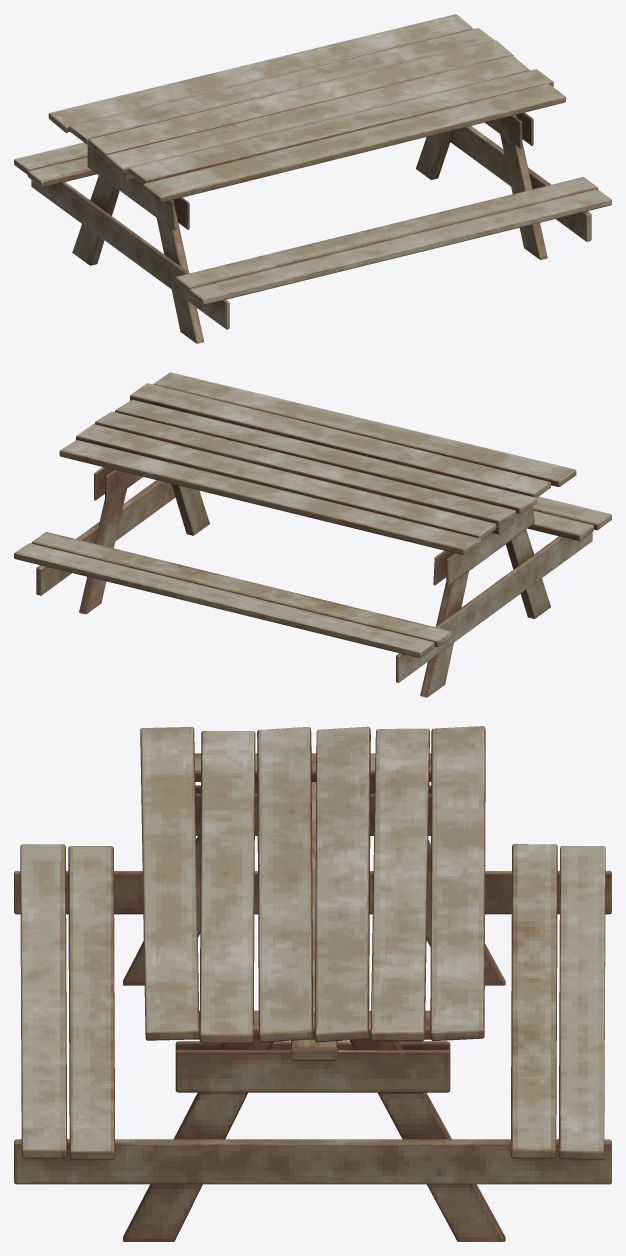
Rendered from shop_bench.glb.
3 renders of one model, top to bottom at view 1: azimuth 30°, elevation 25°; view 2: azimuth 150°, elevation 25°; view 3: azimuth 270°, elevation 25°, orthographic. The views are drawn at different scales.
Parts seen in each view (by area): view 1: mesh; view 2: mesh; view 3: mesh.
Boxes of the visible parts, x1,y1,x2,y2 form: mesh: [14, 14, 611, 343]; mesh: [14, 372, 611, 697]; mesh: [14, 726, 611, 1241].
Size of the model in its own units: 1.5 by 0.5251 by 1.22.
1 material, 1 textured.
